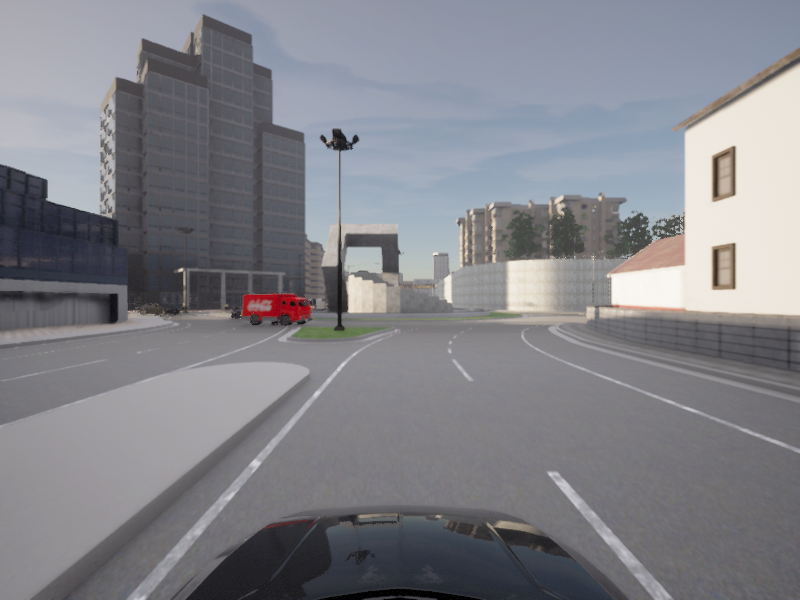vehicle: (239, 293, 316, 327), (227, 304, 243, 320)
